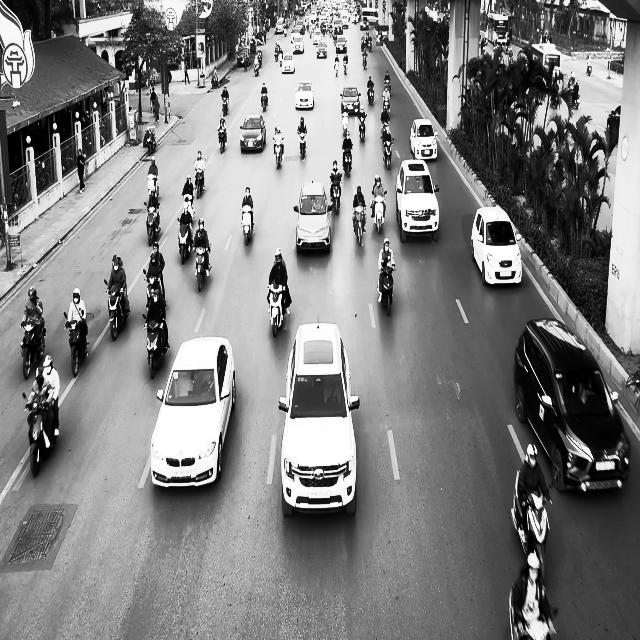bus: (486, 12, 510, 48)
car: (513, 317, 631, 494), (278, 316, 360, 517), (150, 335, 236, 489), (471, 205, 522, 286), (396, 159, 440, 243), (294, 180, 332, 254), (409, 118, 438, 161), (239, 114, 266, 153), (294, 80, 315, 109), (340, 86, 360, 114), (606, 105, 620, 133), (281, 52, 295, 73)
motorbike: (511, 470, 552, 582), (22, 392, 59, 478), (142, 313, 169, 379), (63, 310, 89, 377), (104, 278, 130, 340), (20, 318, 46, 379), (143, 268, 163, 318), (267, 283, 285, 337), (378, 265, 395, 316), (193, 244, 211, 292), (177, 218, 193, 264), (144, 200, 160, 246), (371, 191, 386, 234), (352, 205, 366, 247), (240, 204, 254, 245), (329, 174, 341, 215), (381, 137, 394, 169), (272, 137, 284, 169), (194, 168, 205, 198), (342, 144, 352, 176), (297, 129, 307, 159), (217, 128, 227, 154), (358, 114, 366, 142), (341, 110, 349, 137), (221, 95, 229, 116), (367, 82, 374, 105), (260, 92, 268, 112)
